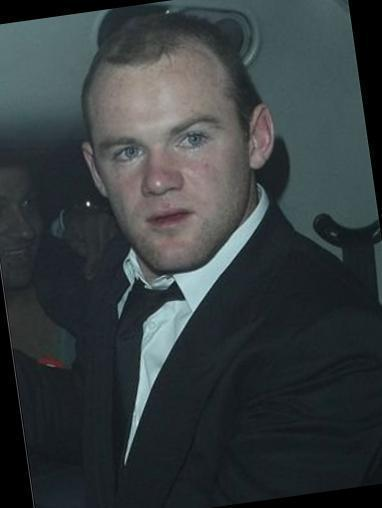Drunk: (87, 58, 249, 274)
